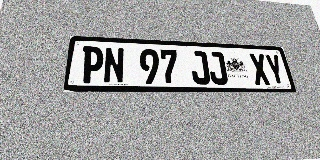7: (159, 49, 180, 84)
9: (140, 49, 160, 84)
J: (189, 51, 211, 85), (207, 51, 229, 85)
N: (103, 47, 124, 84)
P: (80, 46, 104, 83)
X: (248, 53, 271, 85)
Y: (264, 54, 287, 85)
